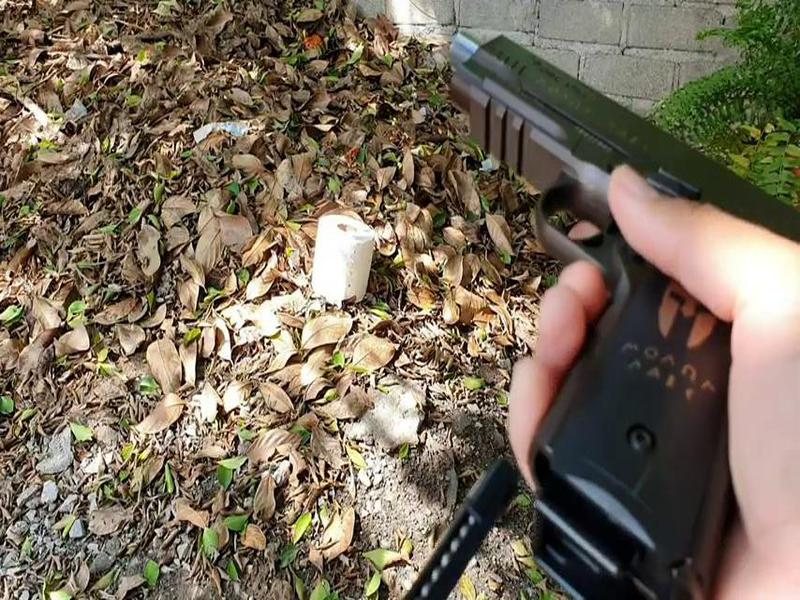Pistola: (408, 11, 769, 579)
